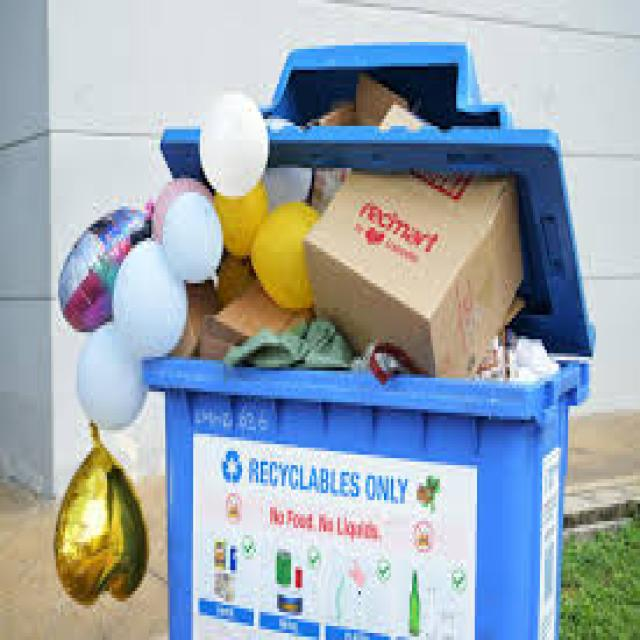bin_full: (137, 31, 596, 636)
bulk_waste: (292, 160, 512, 380), (305, 173, 522, 376), (198, 272, 309, 360), (477, 332, 556, 381), (354, 73, 416, 126)
